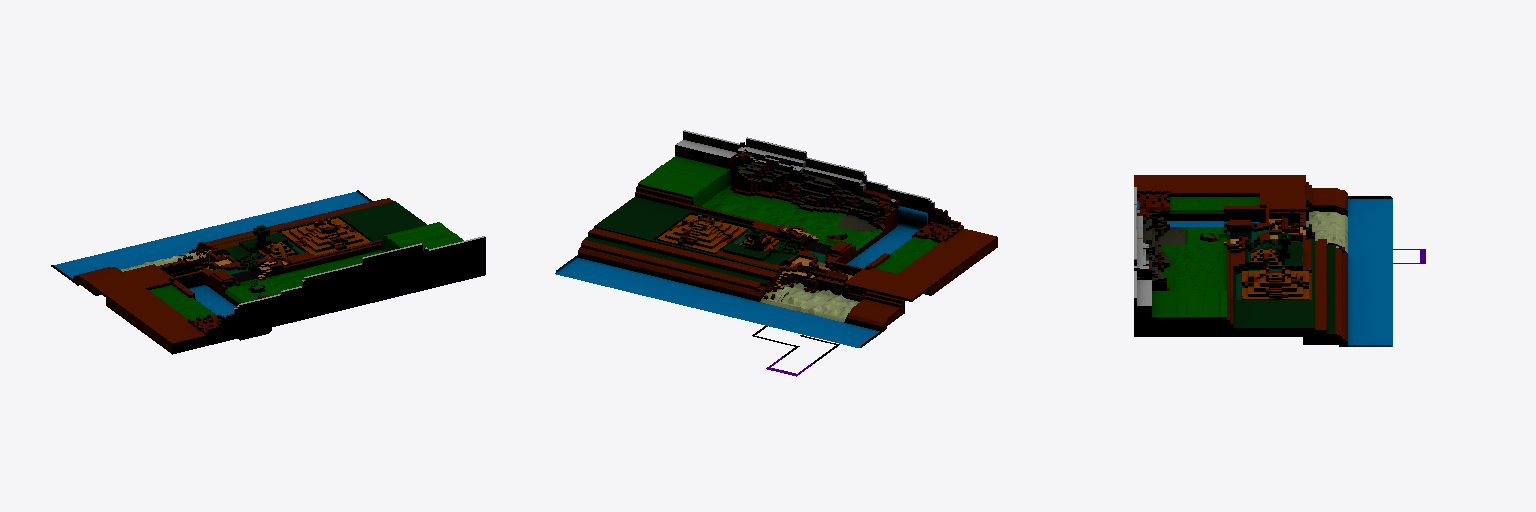
3 views of the same model, side by side, from view 1: azimuth 30°, elevation 25°; view 2: azimuth 150°, elevation 25°; view 3: azimuth 270°, elevation 25° (orthographic).
Parts seen in each view (by area): view 1: Cube; view 2: Cube; view 3: Cube.
Part boxes in pixels (bbox=[...]): Cube: bbox=[51, 190, 485, 354]; Cube: bbox=[555, 130, 997, 376]; Cube: bbox=[1134, 175, 1425, 346].
Size of the model in its own units: 120 by 31 by 97.
1 materials, 1 textured.